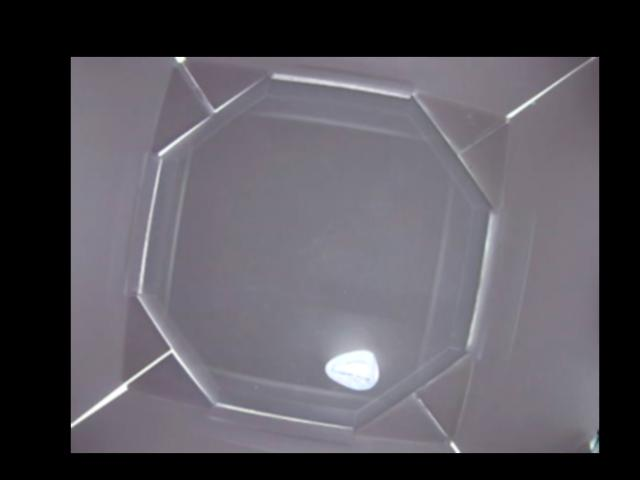Pebble: (327, 350, 381, 389)
